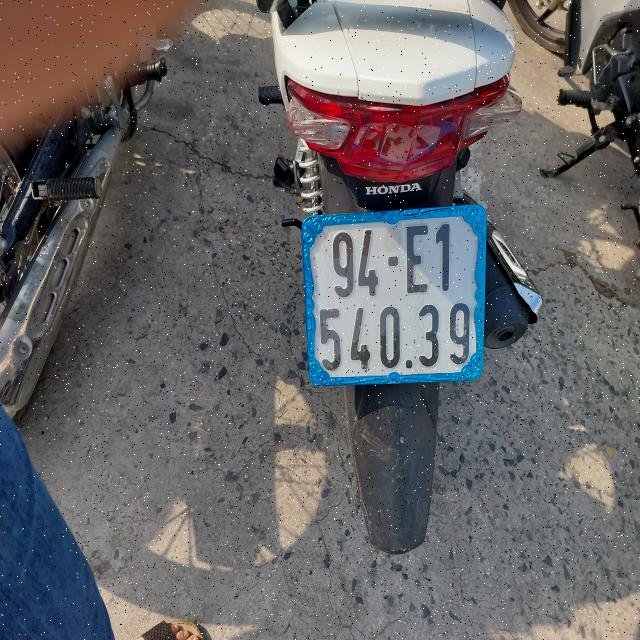0: (376, 306, 403, 367)
1: (434, 220, 456, 294)
3: (413, 302, 443, 368)
4: (357, 227, 381, 299), (347, 306, 373, 371)
5: (315, 303, 347, 371)
9: (332, 226, 356, 302), (446, 306, 474, 364)
E: (404, 223, 433, 299)
